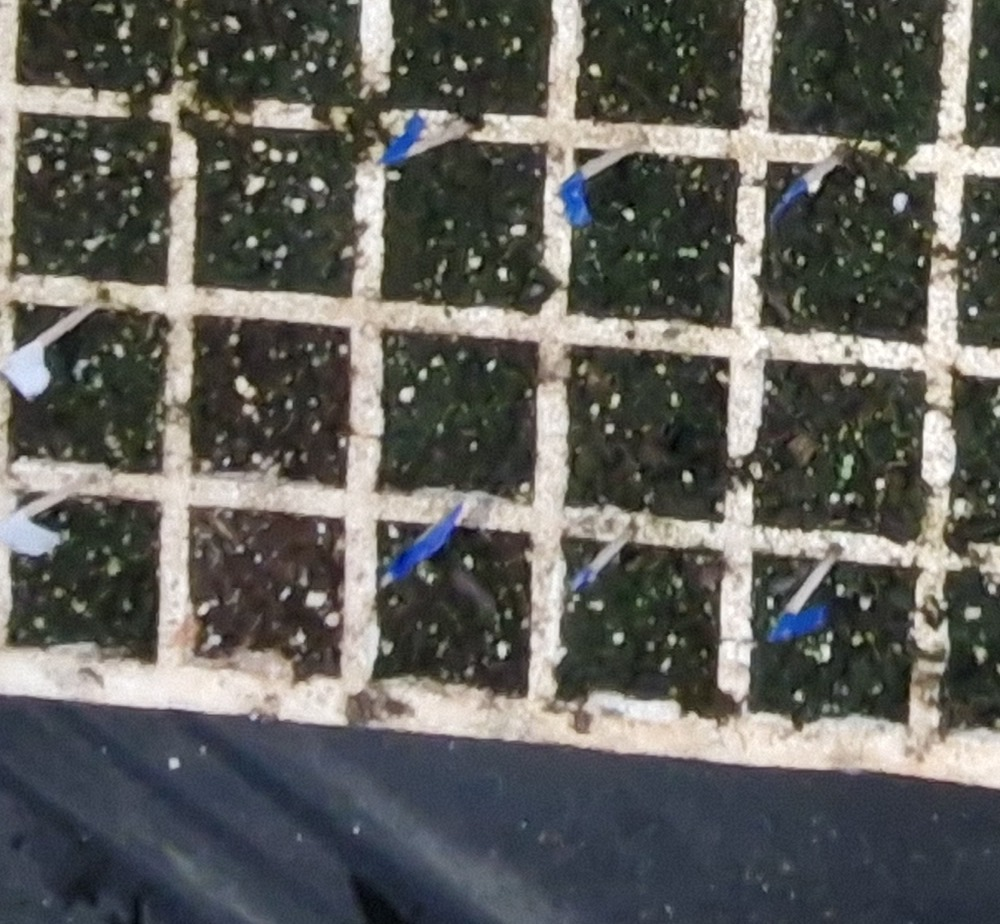Folha: (841, 465, 852, 479), (843, 454, 855, 465), (688, 247, 698, 257), (678, 248, 689, 257)
Germinacao: (841, 454, 855, 479), (678, 247, 699, 259)
